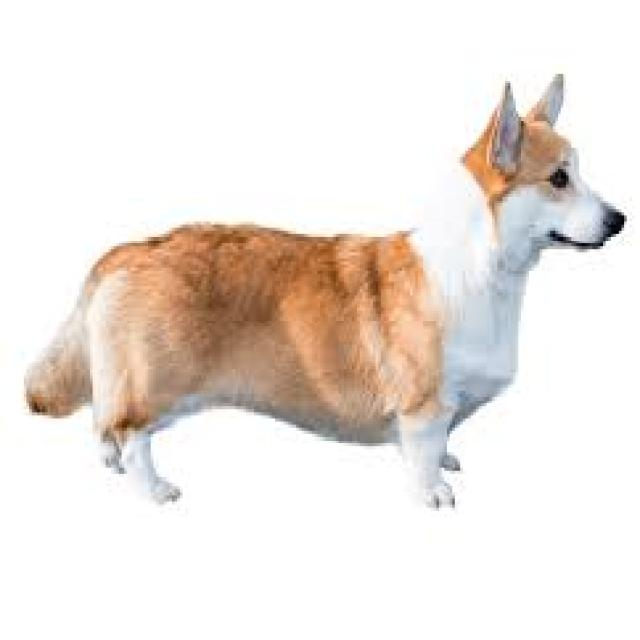CORGI: (27, 64, 625, 512)
